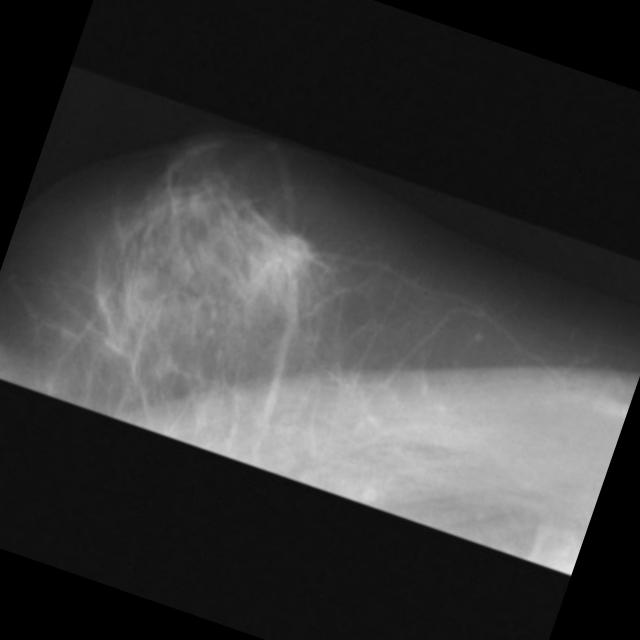MISC: (261, 225, 318, 282)
